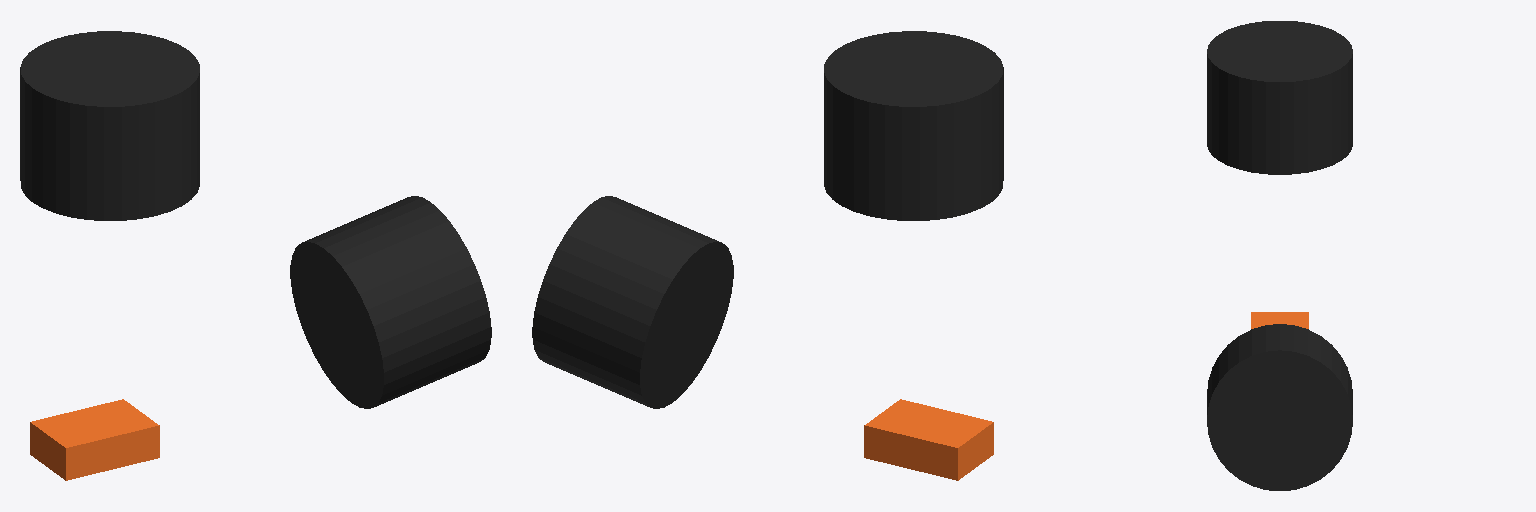
robot.urdf — cartographer_backpack_3d:
<!--

  turtlebot3_imuodompt2.bag links:
	lidar link: camera_depth_optical_frame
		depth is z-axis of camera_depth_optical_frame
		no rot from base_link, 
	imu link: base_link

	
	12/9/21 imu_link_joint was 180 deg rot x-axis, might need to change to 
	no rot for turtlebot3 bag files.
-->

<robot name="cartographer_backpack_3d">
  <material name="orange">
    <color rgba="1.0 0.5 0.2 1" />
  </material>
  <material name="gray">
    <color rgba="0.2 0.2 0.2 1" />
  </material>

  <link name="imu_link">
    <visual>
      <origin xyz="0.0 0.0 0.0" />
      <geometry>
        <box size="0.06 0.04 0.02" />
      </geometry>
      <material name="orange" />
    </visual>
  </link>

  <link name="camera_depth_optical_frame">
    <visual>
      <origin xyz="0.0 0.0 0.0" />
      <geometry>
        <cylinder length="0.07" radius="0.05" />
      </geometry>
      <material name="gray" />
    </visual>
  </link>

  <link name="vertical_vlp16_link">
    <visual>
      <origin xyz="0.0 0.0 0.0" />
      <geometry>
        <cylinder length="0.07" radius="0.05" />
      </geometry>
      <material name="gray" />
    </visual>
  </link>

  <link name="base_link" />

  <joint name="imu_link_joint" type="fixed">
    <parent link="base_link" />
    <child link="imu_link" />
    <origin xyz="0 0 0" rpy="0 0 0" />
  </joint>

  <joint name="camera_depth_optical_frame_joint" type="fixed">
    <parent link="base_link" />
    <child link="camera_depth_optical_frame" />
    <origin xyz="0.01 0. 0.19" rpy="0. 0. 0." />
  </joint>

  <joint name="vertical_vlp16_link_joint" type="fixed">
    <parent link="base_link" />
    <child link="vertical_vlp16_link" />
    <origin xyz="0.19 0. 0.04" rpy="0. 1.3963 0." />
  </joint>
</robot>

--- Render facts (derived) ---
Views: 3 orthographic renders of the robot side by side, from view 1: azimuth 30°, elevation 25°; view 2: azimuth 150°, elevation 25°; view 3: azimuth 270°, elevation 25°.
Model cartographer_backpack_3d with 4 links and 3 joints (3 fixed), rooted at base_link, posed every joint at zero.
Links seen in each view (by area): view 1: camera_depth_optical_frame, vertical_vlp16_link, imu_link; view 2: camera_depth_optical_frame, vertical_vlp16_link, imu_link; view 3: camera_depth_optical_frame, vertical_vlp16_link, imu_link.
Link boxes in pixels (x1,y1,x2,y2): camera_depth_optical_frame: [20, 31, 199, 220]; vertical_vlp16_link: [290, 196, 491, 408]; imu_link: [30, 399, 159, 480]; camera_depth_optical_frame: [824, 31, 1003, 220]; vertical_vlp16_link: [532, 196, 733, 408]; imu_link: [864, 399, 993, 480]; camera_depth_optical_frame: [1207, 21, 1352, 174]; vertical_vlp16_link: [1207, 324, 1352, 490]; imu_link: [1251, 312, 1308, 328].
Bounding box of the posed robot: 0.2731 × 0.1 × 0.2403 m (x, y, z).
Geometry: primitives only (box / cylinder / sphere), no mesh files.